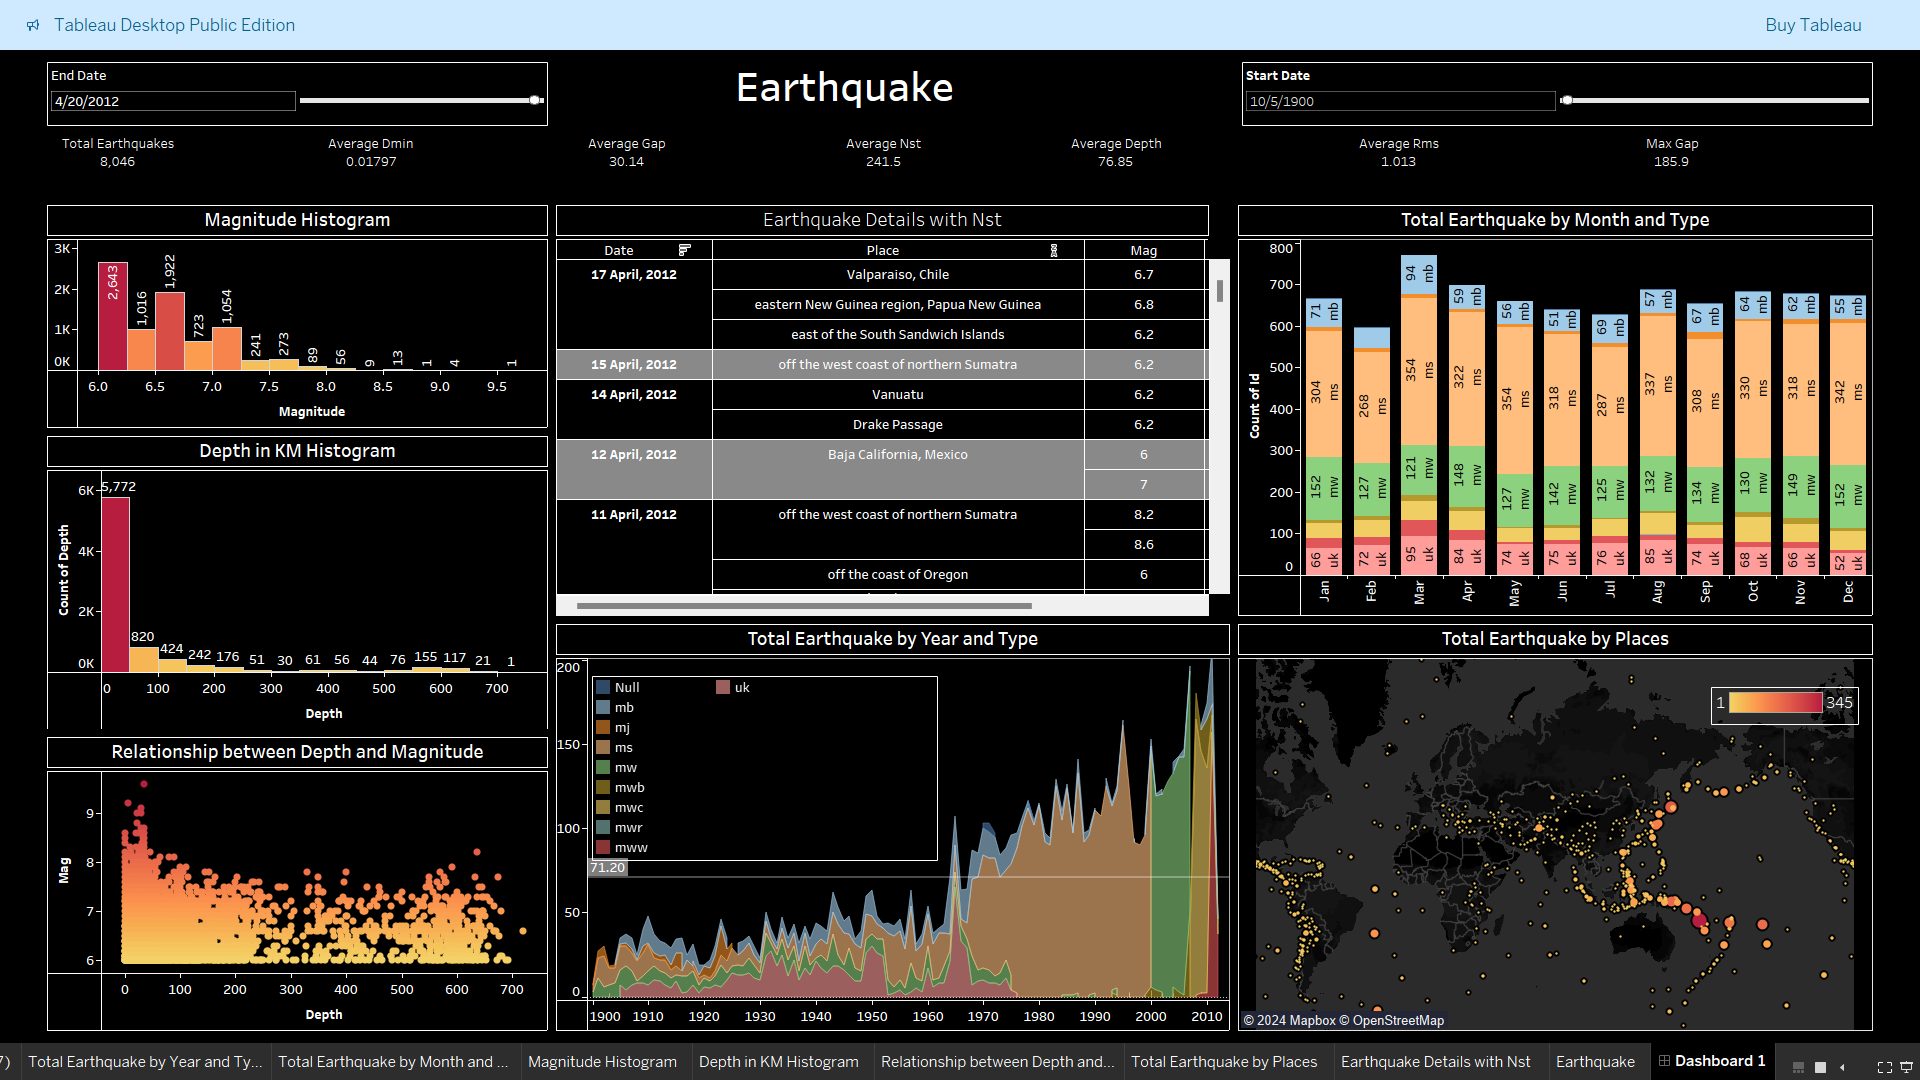

The page's visual inventory and layout, read from the dashboard file:
{"tool":"tableau","page":{"name":"Earthquake","canvas":[1000,1000],"units":"permille","ordinal":0},"visuals":[{"type":"parameter","param":"[Parameters].[Parameter 1]","box":[4.8,10,308.9,93.5]},{"type":"worksheet","title":"Earthquake Dashboard","mark":"Automatic","box":[313.7,10,385.7,93.5]},{"type":"parameter","param":"[Parameters].[Parameter 2]","box":[699.4,10,295.8,93.5]},{"type":"worksheet","title":"Sheet 1","mark":"Automatic","box":[4.8,103.5,135.1,68.5]},{"type":"worksheet","title":"Sheet 1 (2)","mark":"Automatic","box":[139.9,103.5,135.2,68.5]},{"type":"worksheet","title":"Sheet 1 (3)","mark":"Automatic","box":[275.1,103.5,129.7,68.5]},{"type":"worksheet","title":"Sheet 1 (7)","mark":"Automatic","box":[404.8,103.5,129.6,68.5]},{"type":"worksheet","title":"Sheet 1 (4)","mark":"Automatic","box":[534.4,103.5,131.8,68.5]},{"type":"worksheet","title":"Sheet 1 (5)","mark":"Automatic","box":[666.2,103.5,163.3,68.5]},{"type":"worksheet","title":"Sheet 1 (6)","mark":"Automatic","box":[829.5,103.5,165.6,68.5]},{"type":"worksheet","title":"Magnitude Histogram","mark":"Automatic","rows":["mag"],"cols":["Mag (bin)"],"box":[4.8,172,270.2,226.8]},{"type":"worksheet","title":"Earthquake Details with Total Nst","mark":"Automatic","rows":["Date","place","mag","depth"],"box":[275.1,172,391.1,374.5]},{"type":"worksheet","title":"Total Earthquake by Month and Type (2)","mark":"Bar","rows":["id"],"cols":["Date"],"box":[666.2,172,329,409]},{"type":"worksheet","title":"Depth in KM Histogram","mark":"Automatic","rows":["depth"],"cols":["Depth (bin)"],"box":[4.8,398.8,270.2,295.6]},{"type":"worksheet","title":"Total Earthquake by Year and Type","mark":"Area","rows":["id"],"cols":["Date"],"box":[275.1,546.5,391.1,443.5]},{"type":"worksheet","title":"Total Earthquakes by Places","mark":"Automatic","rows":["latitude"],"cols":["longitude"],"box":[666.2,581,329,409]},{"type":"legend","title":"Total Earthquake by Year and Type","param":"[federated.16g9vz41cjj30413a721m0ce5vyj].[none:magType:nk]","box":[301.2,596.8,207.6,169.8]},{"type":"legend","title":"Total Earthquakes by Places","param":"[federated.16g9vz41cjj30413a721m0ce5vyj].[cnt:id:qk]","box":[894.4,650.4,91.7,46.2]},{"type":"worksheet","title":"Relationship between Depth and Magnitude","mark":"Automatic","rows":["mag"],"cols":["depth"],"box":[4.8,694.3,270.2,295.7]}]}

Visuals, with their boxes on the dashboard's canvas, which has no fixed pixel size, in thousandths of its width and height (x1, y1, x2, y2). These are canvas units, not pixel positions in the 1920x1080 screenshot, which may show the page scaled, cropped or inside an application window:
parameter: (5, 10, 314, 104)
"Earthquake Dashboard" worksheet: (314, 10, 699, 104)
parameter: (699, 10, 995, 104)
"Sheet 1" worksheet: (5, 104, 140, 172)
"Sheet 1 (2)" worksheet: (140, 104, 275, 172)
"Sheet 1 (3)" worksheet: (275, 104, 405, 172)
"Sheet 1 (7)" worksheet: (405, 104, 534, 172)
"Sheet 1 (4)" worksheet: (534, 104, 666, 172)
"Sheet 1 (5)" worksheet: (666, 104, 830, 172)
"Sheet 1 (6)" worksheet: (830, 104, 995, 172)
"Magnitude Histogram" worksheet: (5, 172, 275, 399)
"Earthquake Details with Total Nst" worksheet: (275, 172, 666, 546)
"Total Earthquake by Month and Type (2)" worksheet (Bar marks): (666, 172, 995, 581)
"Depth in KM Histogram" worksheet: (5, 399, 275, 694)
"Total Earthquake by Year and Type" worksheet (Area marks): (275, 546, 666, 990)
"Total Earthquakes by Places" worksheet: (666, 581, 995, 990)
"Total Earthquake by Year and Type" legend: (301, 597, 509, 767)
"Total Earthquakes by Places" legend: (894, 650, 986, 697)
"Relationship between Depth and Magnitude" worksheet: (5, 694, 275, 990)
